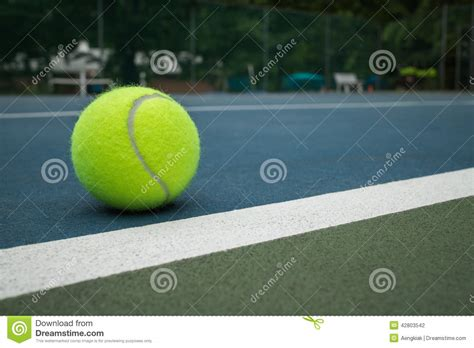tennis_ball: (70, 84, 201, 210)
